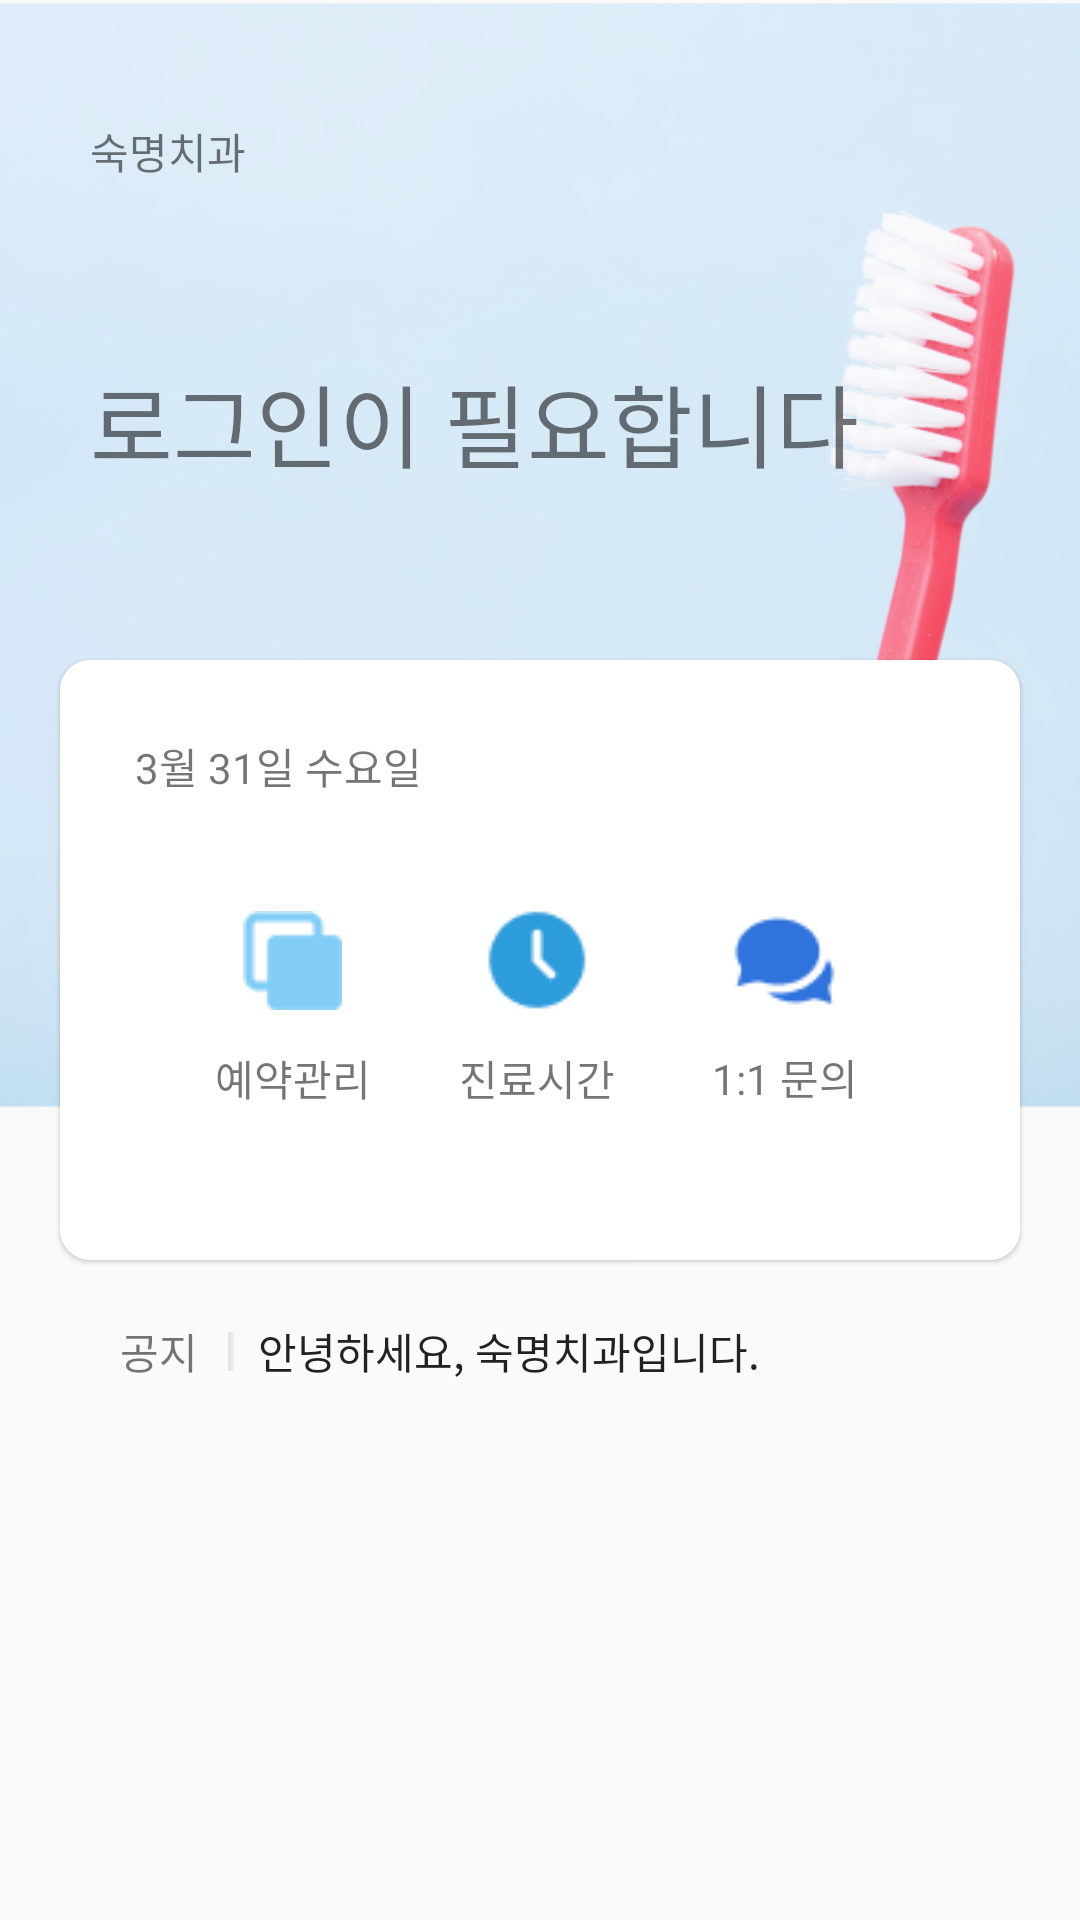

Locate icon controls on the screen. Image size 1080px x 1920px, boxes as region(x1, y1, x2, y2).
chat: region(734, 916, 835, 1005)
clock: region(488, 911, 586, 1009)
